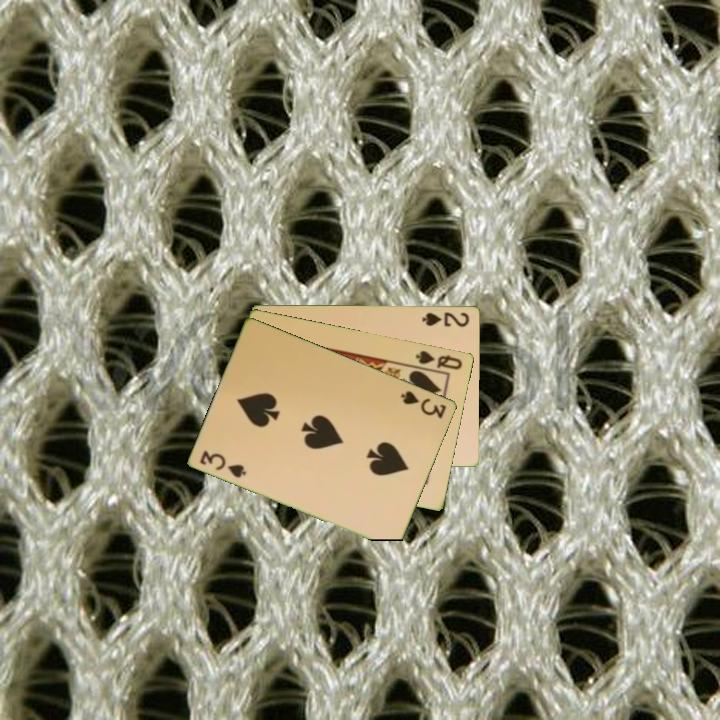2s: (419, 309, 472, 330)
3s: (197, 446, 250, 481), (398, 387, 449, 421)
Qs: (412, 347, 466, 372)
